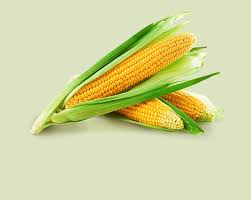milho: (40, 19, 216, 140)
